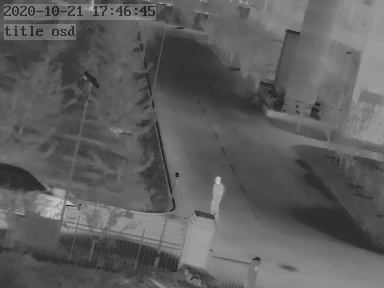person: (211, 174, 224, 217)
